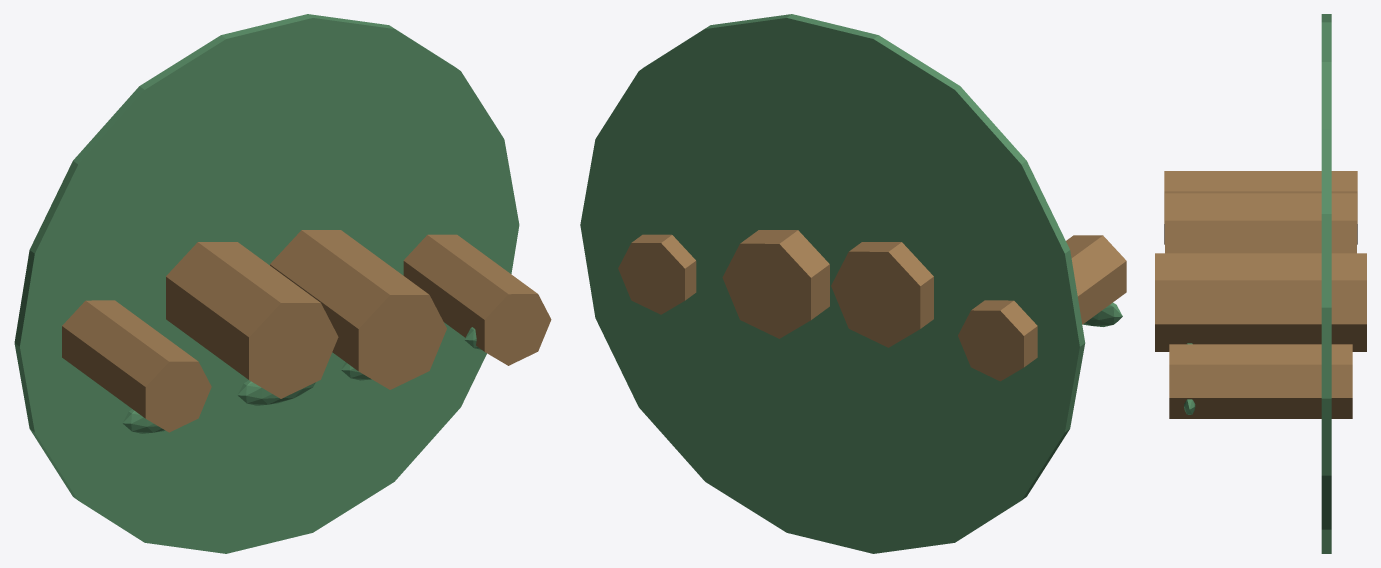
The model's file is 02_display_prop_cluster.glb.
The picture shows the model from 3 angles, left to right: view 1: azimuth 30°, elevation 25°; view 2: azimuth 150°, elevation 25°; view 3: azimuth 270°, elevation 25°; orthographic projection. The views are drawn at different scales.
Visible parts, largest first — view 1: scatter_base, root_stump_1, root_stump_2, root_stump_0, root_stump_3, moss_1; view 2: scatter_base, root_stump_2, root_stump_0, root_stump_1, root_stump_3; view 3: root_stump_2, root_stump_3, root_stump_1, scatter_base, root_stump_0.
Boxes of the visible parts, x1=… form: scatter_base: x1=14, y1=14, x2=519, y2=553; root_stump_1: x1=166, y1=242, x2=338, y2=398; root_stump_2: x1=270, y1=230, x2=446, y2=389; root_stump_0: x1=62, y1=300, x2=211, y2=432; root_stump_3: x1=403, y1=234, x2=551, y2=365; moss_1: x1=237, y1=380, x2=315, y2=405; scatter_base: x1=580, y1=14, x2=1085, y2=553; root_stump_2: x1=722, y1=230, x2=829, y2=338; root_stump_0: x1=958, y1=235, x2=1126, y2=381; root_stump_1: x1=831, y1=242, x2=933, y2=347; root_stump_3: x1=618, y1=234, x2=696, y2=314; root_stump_2: x1=1155, y1=253, x2=1366, y2=351; root_stump_3: x1=1169, y1=344, x2=1352, y2=418; root_stump_1: x1=1165, y1=193, x2=1356, y2=253; scatter_base: x1=1321, y1=14, x2=1331, y2=553; root_stump_0: x1=1164, y1=171, x2=1357, y2=244.
Size of the model in its own units: 1.9 by 1.87 by 0.7429.
